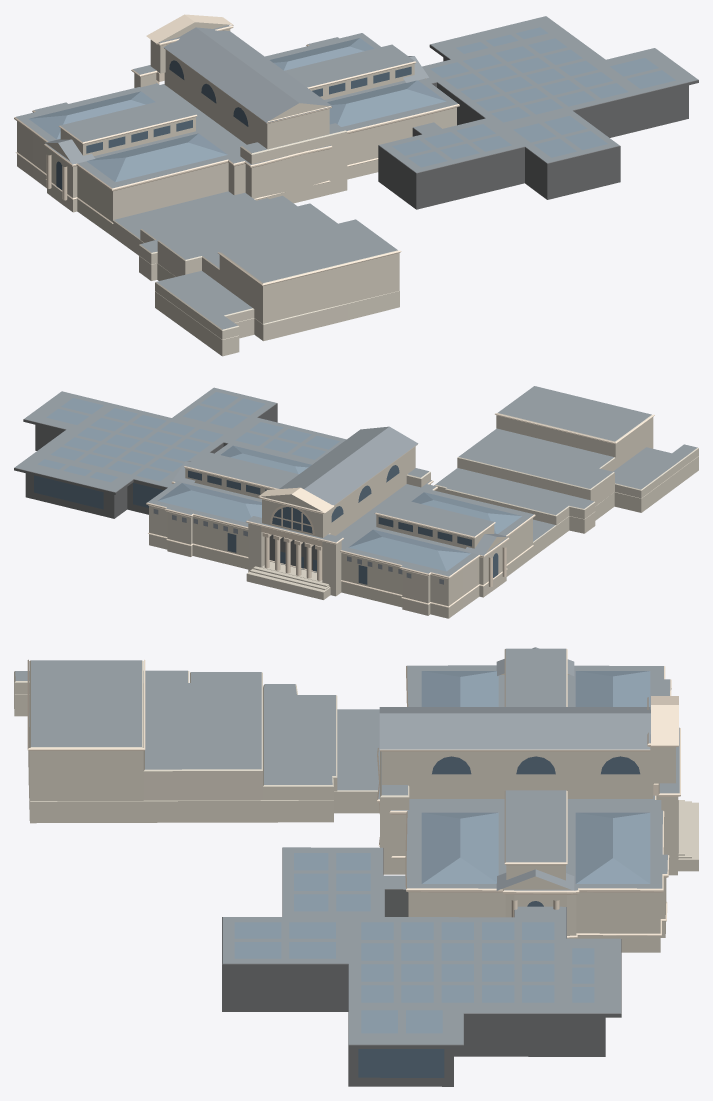
The model's file is stl-art-museum.glb.
3 views of the same model, one above another, from view 1: azimuth 30°, elevation 25°; view 2: azimuth 150°, elevation 25°; view 3: azimuth 270°, elevation 25° (orthographic). The views are drawn at different scales.
Visible parts, largest first — view 1: Saint Louis Art Museum; view 2: Saint Louis Art Museum; view 3: Saint Louis Art Museum.
Part boxes in pixels (x1=…): Saint Louis Art Museum: x1=14, y1=14, x2=698, y2=356; Saint Louis Art Museum: x1=14, y1=386, x2=698, y2=618; Saint Louis Art Museum: x1=14, y1=647, x2=698, y2=1086.
Size of the model in its own units: 185 by 30.7 by 138.
